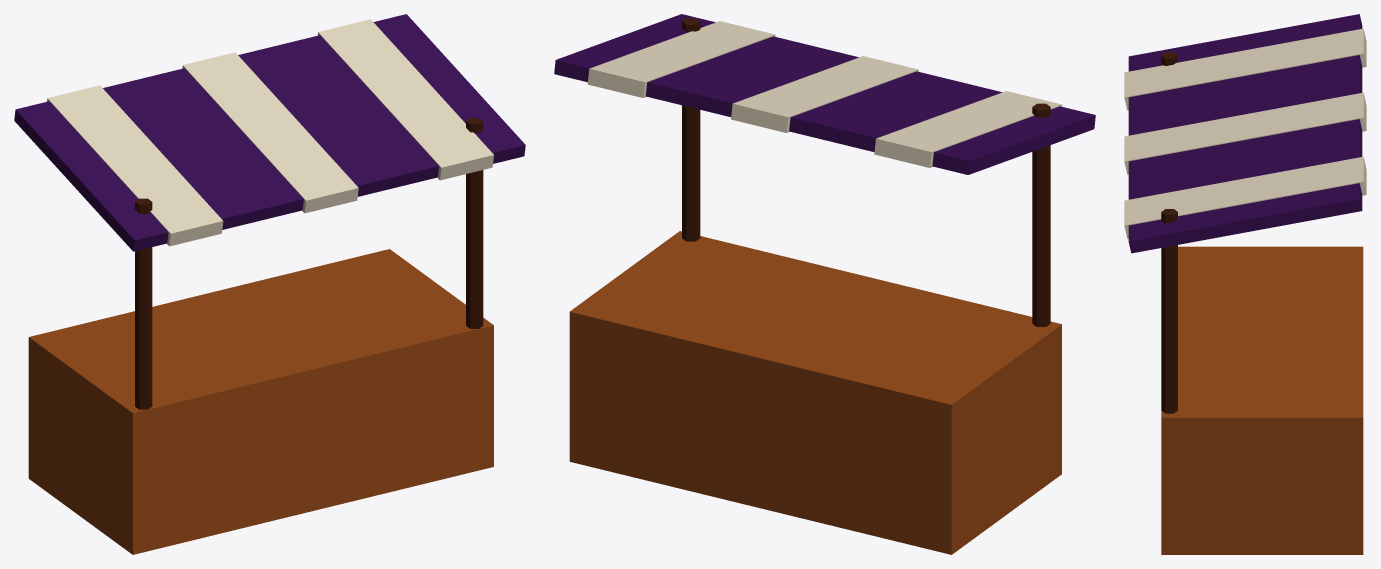
File: market_stall.obj
3 renders of one model, left to right at view 1: azimuth 30°, elevation 25°; view 2: azimuth 150°, elevation 25°; view 3: azimuth 270°, elevation 25°, orthographic. The views are drawn at different scales.
Parts seen in each view (by area): view 1: market_stall; view 2: market_stall; view 3: market_stall.
Part boxes in pixels (x1=…): market_stall: x1=14, y1=14, x2=525, y2=554; market_stall: x1=554, y1=14, x2=1095, y2=554; market_stall: x1=1124, y1=14, x2=1366, y2=554.
Bounding box in the file's own units: 2.6 × 2.39 × 1.44.
